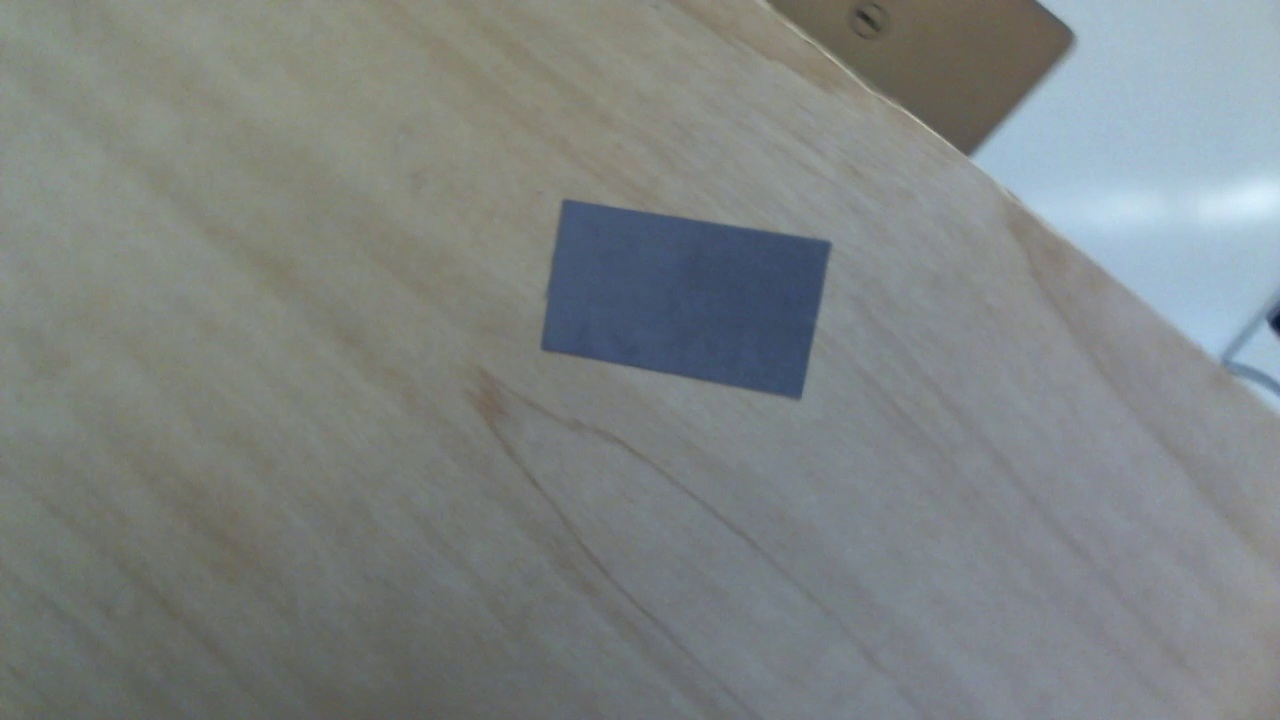Tape: (541, 201, 833, 407)
